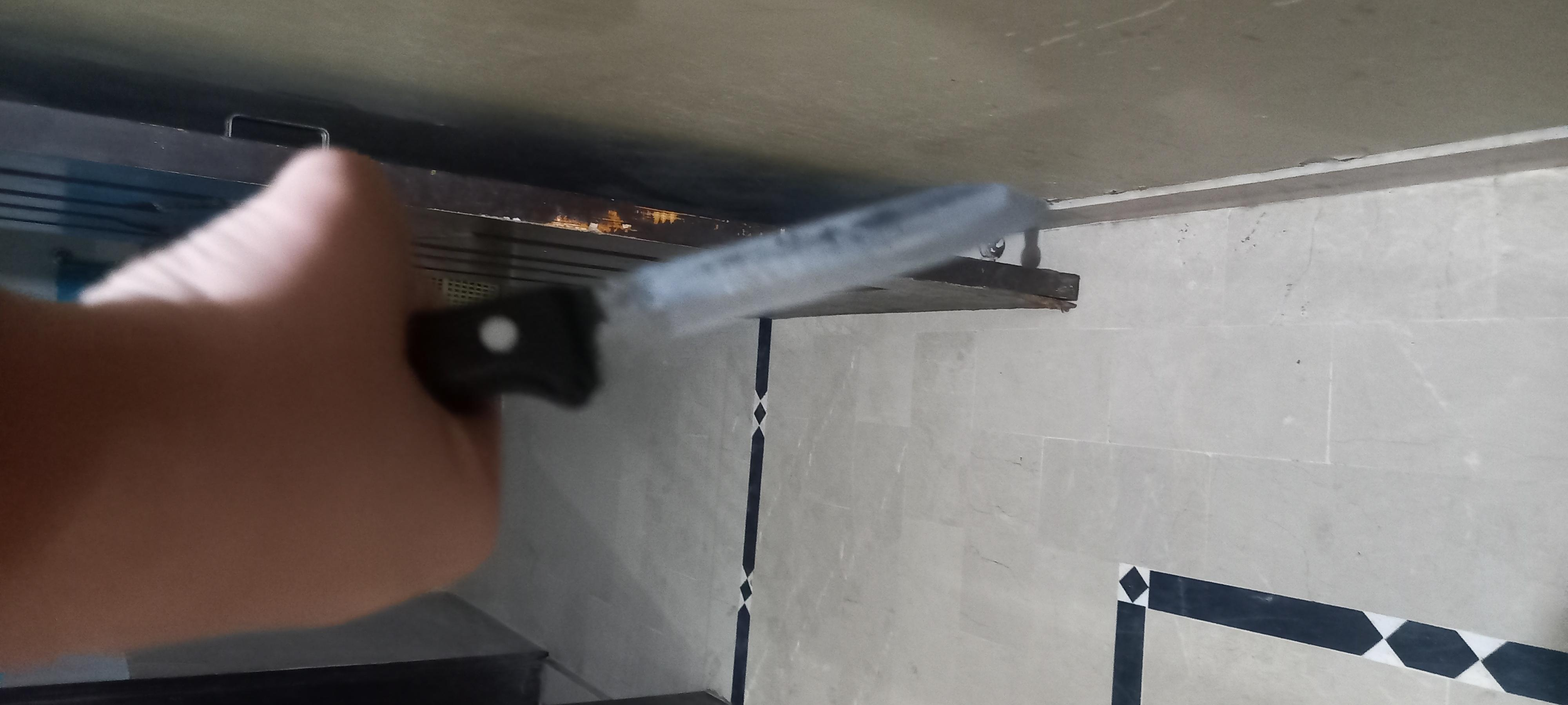knives: (598, 186, 1239, 479)
